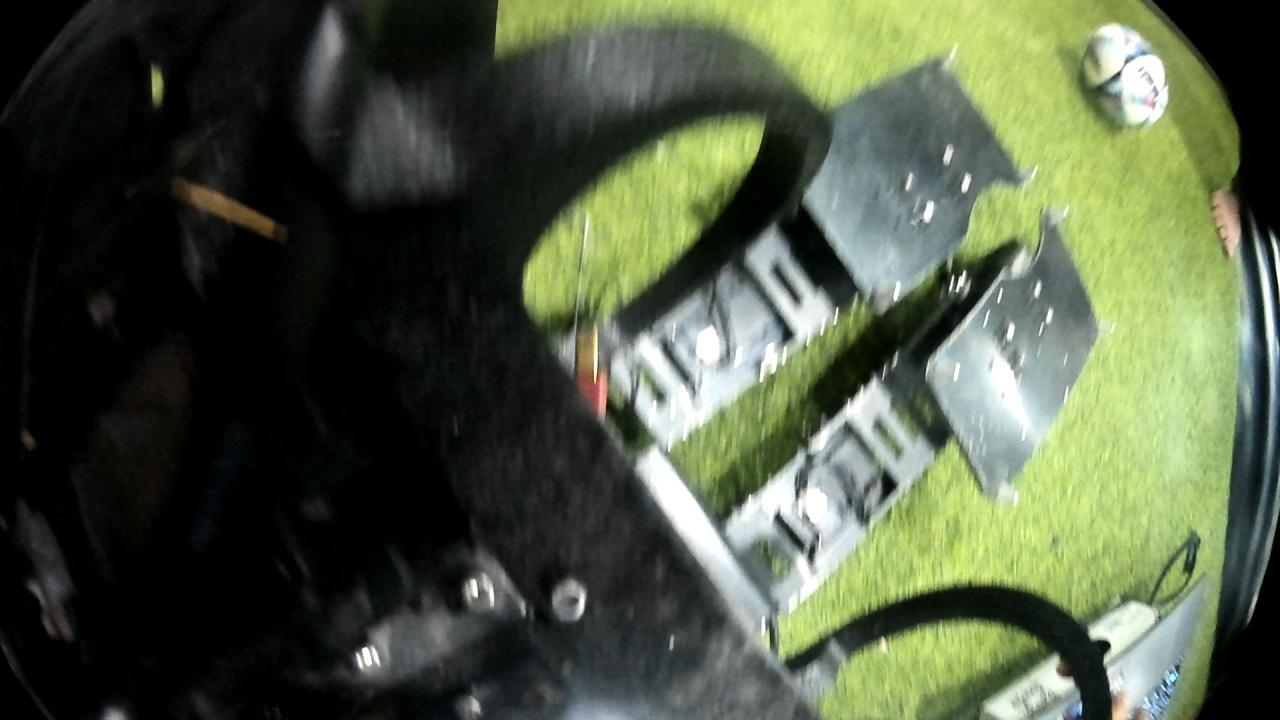ball: (1080, 15, 1174, 141)
